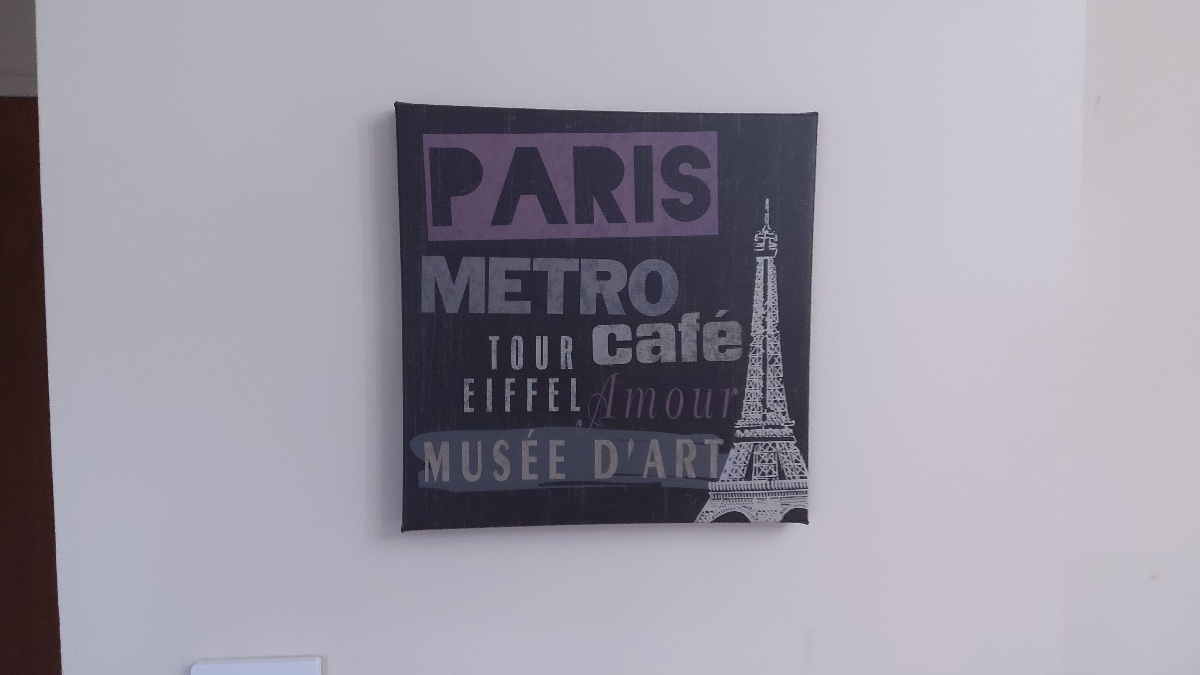poster: (383, 95, 819, 536)
